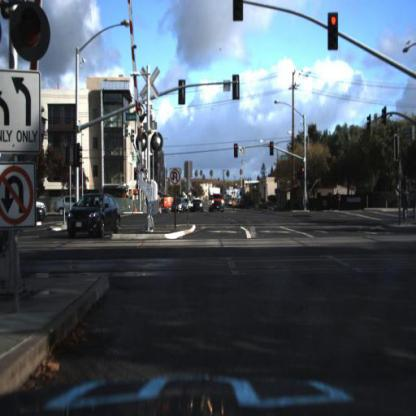biker: (400, 185, 412, 227)
car: (65, 195, 125, 244), (70, 190, 121, 236), (211, 192, 230, 215), (169, 195, 187, 218), (190, 195, 205, 216), (172, 199, 184, 215)
pedestrian: (400, 167, 413, 232), (332, 181, 345, 217), (334, 187, 342, 211), (411, 184, 416, 219)
trafficLight: (232, 1, 244, 25), (234, 140, 239, 162)
trafficLight-Red: (328, 13, 338, 51), (300, 159, 306, 177), (270, 141, 276, 158), (302, 164, 307, 175)
